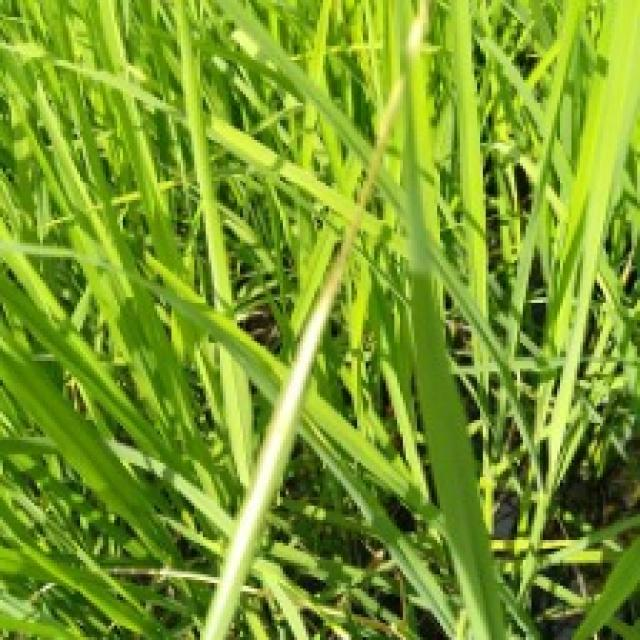Rice___Bacterial_Leaf_Blight: (198, 170, 376, 637)
